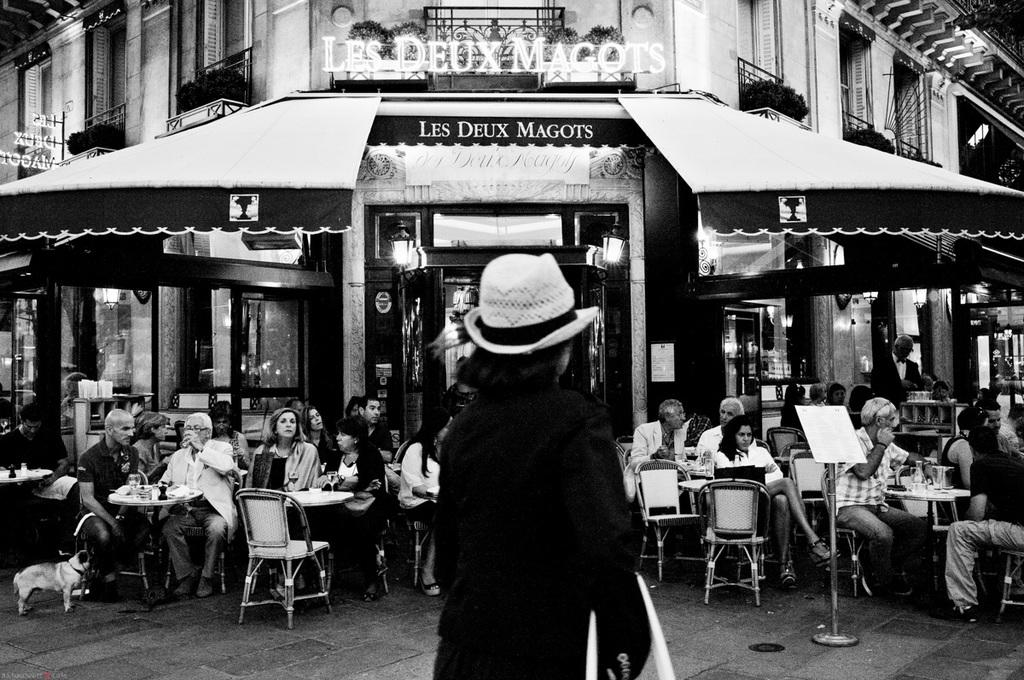Hat: (462, 248, 599, 354)
